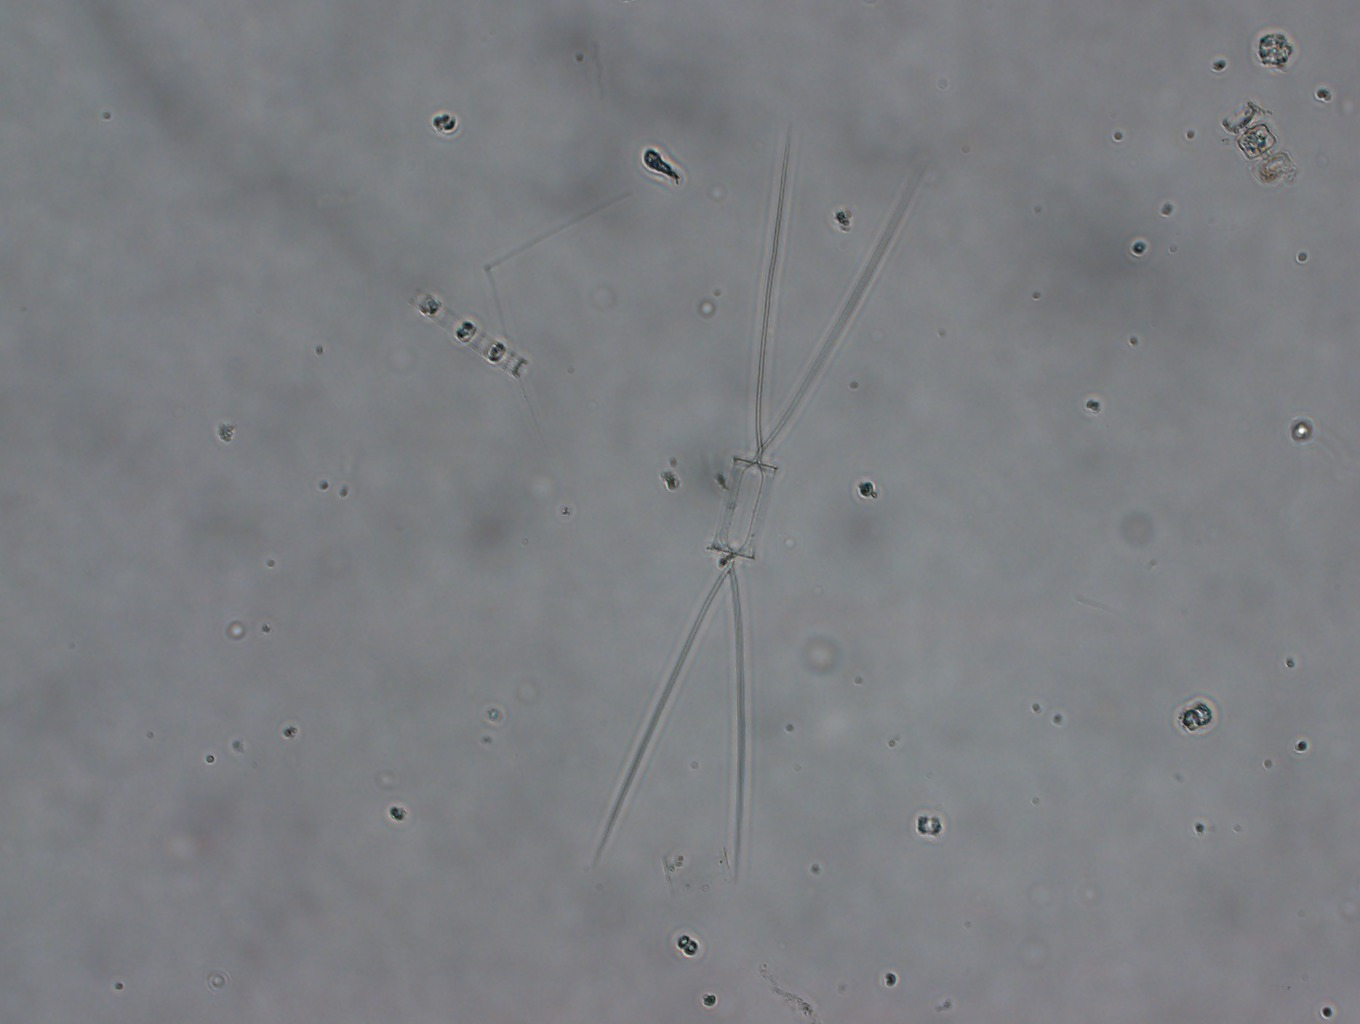chaetoceros: (583, 115, 926, 890)
skeletonema: (398, 276, 541, 394)
